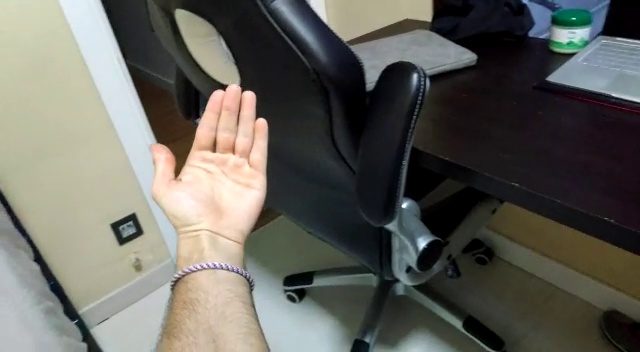Palm: (144, 80, 273, 255)
